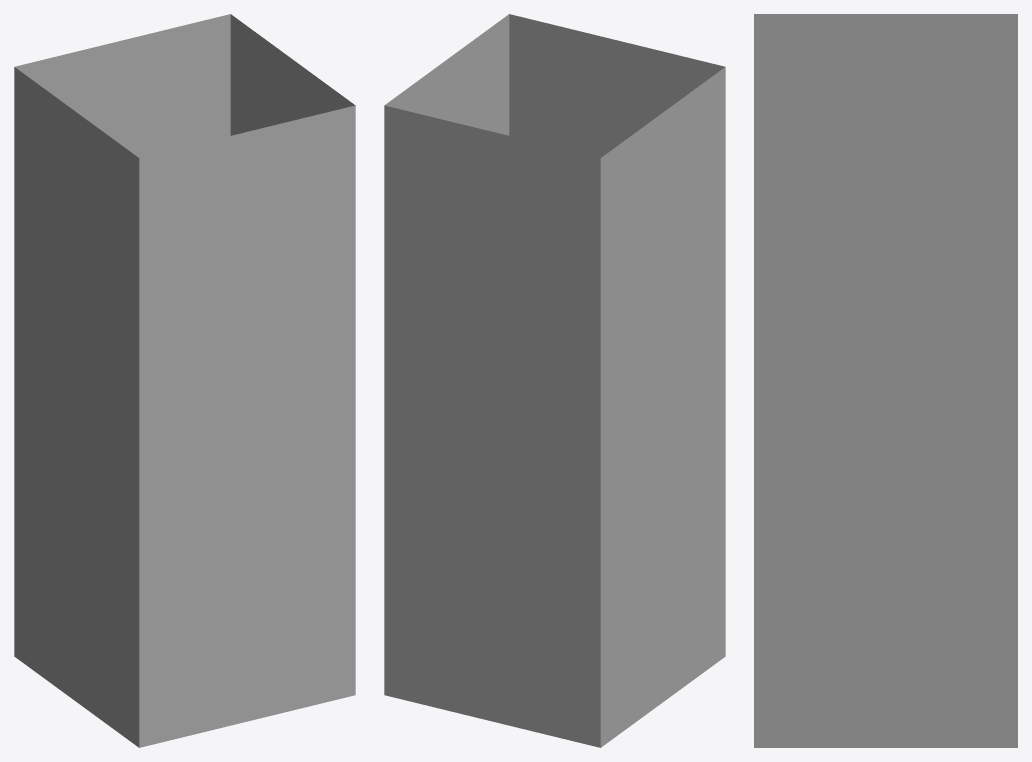
File: Museum_SquarePillarPillar.fbx
The picture shows the model from 3 angles, left to right: view 1: azimuth 30°, elevation 25°; view 2: azimuth 150°, elevation 25°; view 3: azimuth 270°, elevation 25°; orthographic projection. The views are drawn at different scales.
Parts seen in each view (by area): view 1: Cube; view 2: Cube; view 3: Cube.
Part boxes in pixels (x1,y1,x2,y2): Cube: [14, 14, 355, 747]; Cube: [384, 14, 725, 747]; Cube: [754, 14, 1017, 747].
Bounding box in the file's own units: 0.4479 × 1.17 × 0.4479.
